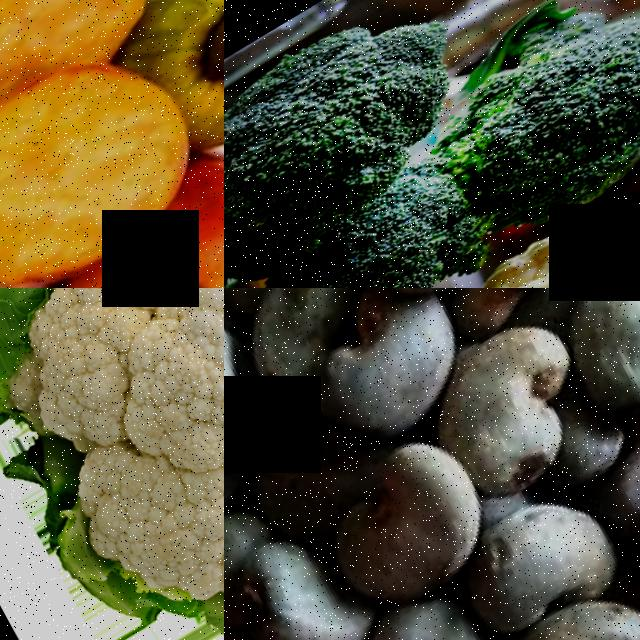broccoli: (224, 0, 640, 288)
cashew: (316, 440, 513, 629), (419, 320, 599, 524), (294, 288, 479, 456), (455, 488, 632, 640), (224, 492, 375, 640), (554, 288, 640, 463), (224, 298, 287, 464), (578, 408, 640, 568), (421, 288, 588, 341)
cauliflower: (0, 288, 224, 640), (243, 155, 640, 288)
